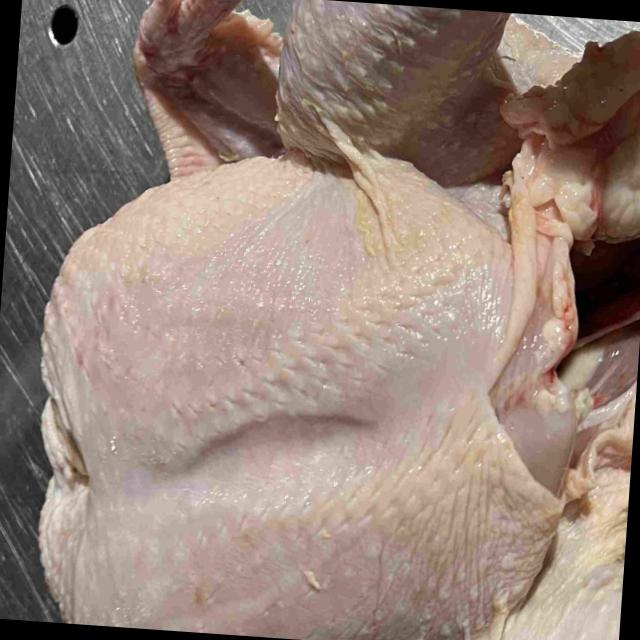breast: (39, 146, 577, 640)
leg: (276, 0, 521, 186), (470, 518, 625, 640)
wing: (135, 0, 282, 176)
